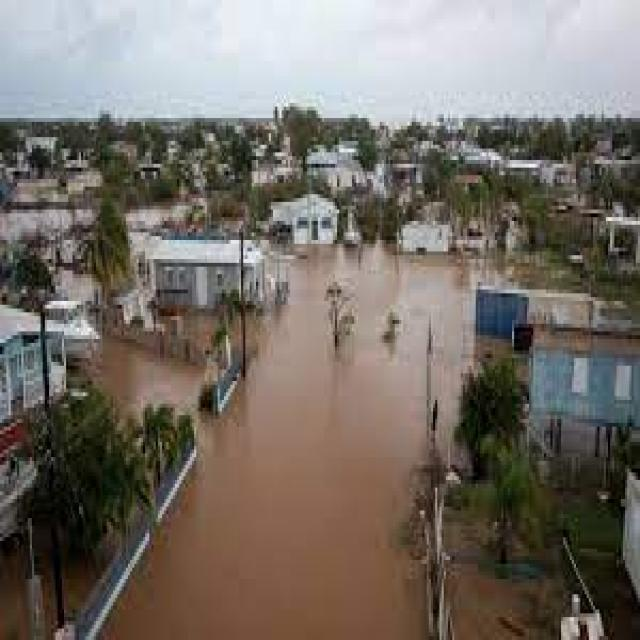Hurricane: (148, 217, 585, 640)
